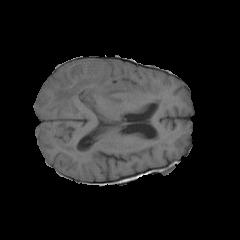glioma: (50, 66, 135, 115)
